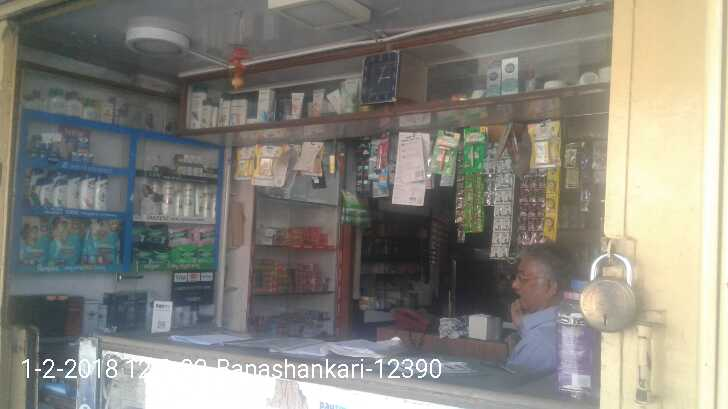beauty: (175, 152, 204, 176), (79, 173, 96, 210), (95, 176, 107, 211), (68, 173, 79, 211), (161, 183, 173, 215), (53, 176, 65, 207), (184, 183, 192, 221), (195, 184, 203, 219)
